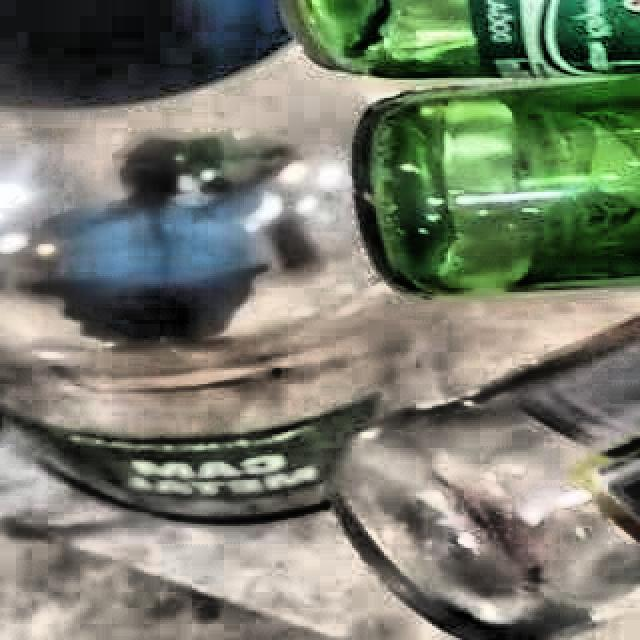glass: (282, 0, 640, 297)
